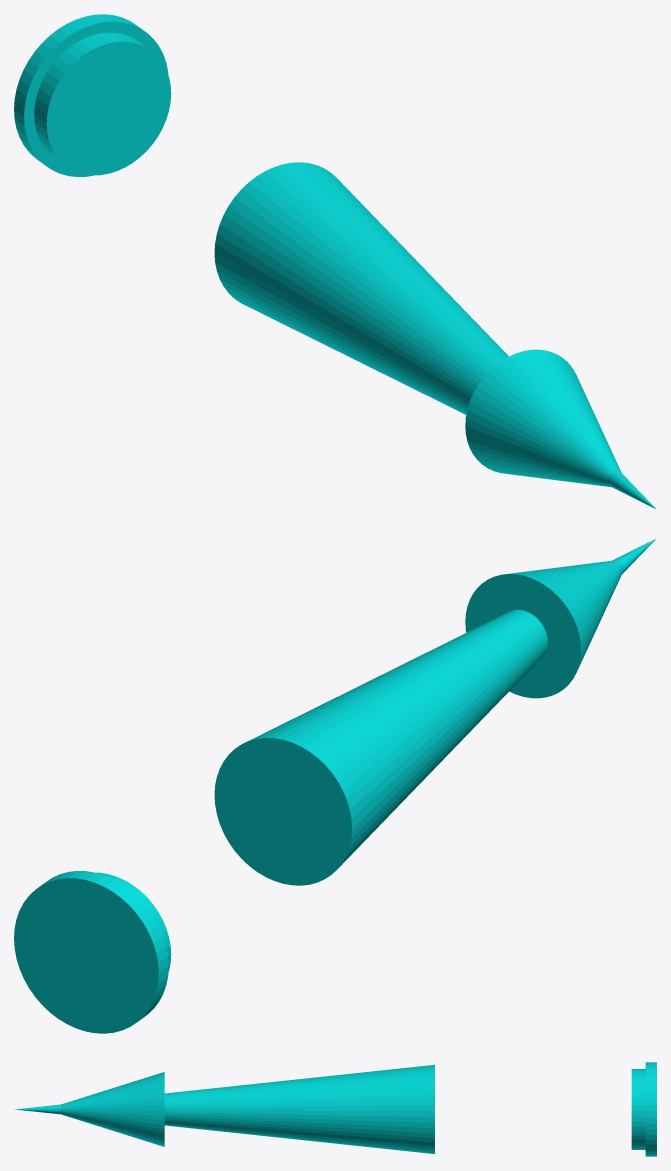
The model's file is 556x45_holographic_light.glb.
3 renders of one model, top to bottom at view 1: azimuth 30°, elevation 25°; view 2: azimuth 150°, elevation 25°; view 3: azimuth 270°, elevation 25°, orthographic. The views are drawn at different scales.
Parts seen in each view (by area): view 1: world; view 2: world; view 3: world.
Part boxes in pixels (x1,y1,x2,y2): world: (14, 14, 655, 508); world: (14, 539, 655, 1033); world: (14, 1062, 656, 1156).
Size of the model in its own units: 10 by 10 by 68.25.
